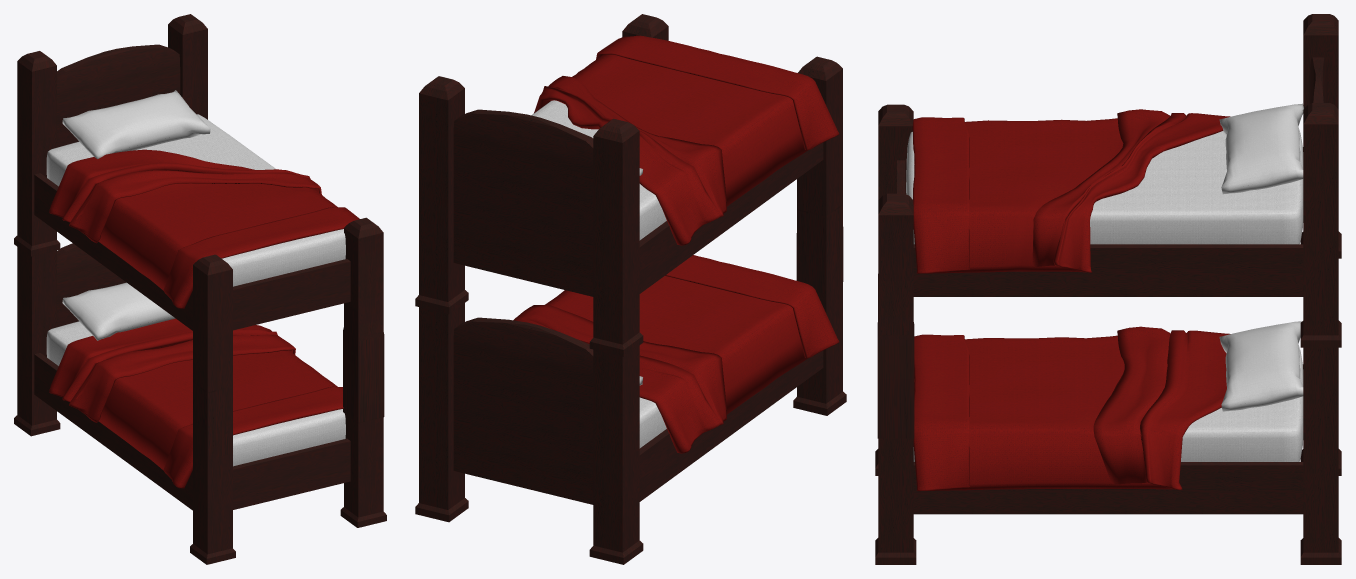
The model's file is Cama.fbx.
3 views of the same model, side by side, from view 1: azimuth 30°, elevation 25°; view 2: azimuth 150°, elevation 25°; view 3: azimuth 270°, elevation 25° (orthographic). The views are drawn at different scales.
Visible parts, largest first — view 1: Cama.001, Cobija.001, Cama, Cobija, Colchon.001, Almohada.001, Colchon, Almohada; view 2: Cama.001, Cama, Cobija.001, Cobija, Colchon.001, Colchon; view 3: Cobija, Cama.001, Cobija.001, Cama, Colchon.001, Colchon, Almohada.001, Almohada.
Part boxes in pixels (left/top/right/bottom): Cama.001: left=14, top=14, right=384, bottom=459; Cobija.001: left=49, top=149, right=359, bottom=308; Cama: left=14, top=243, right=386, bottom=564; Cobija: left=49, top=318, right=343, bottom=488; Colchon.001: left=46, top=114, right=345, bottom=286; Almohada.001: left=62, top=90, right=210, bottom=158; Colchon: left=46, top=321, right=345, bottom=466; Almohada: left=62, top=282, right=175, bottom=340; Cama.001: left=415, top=14, right=843, bottom=356; Cama: left=415, top=282, right=846, bottom=564; Cobija.001: left=534, top=35, right=839, bottom=245; Cobija: left=513, top=255, right=839, bottom=453; Colchon.001: left=531, top=100, right=666, bottom=240; Colchon: left=639, top=397, right=666, bottom=448; Cobija: left=913, top=326, right=1230, bottom=491; Cama.001: left=877, top=14, right=1341, bottom=438; Cobija.001: left=912, top=109, right=1230, bottom=273; Cama: left=875, top=347, right=1341, bottom=564; Colchon.001: left=906, top=128, right=1303, bottom=244; Colchon: left=913, top=345, right=1303, bottom=461; Almohada.001: left=1219, top=103, right=1303, bottom=194; Almohada: left=1219, top=321, right=1303, bottom=411.
Bounding box in the file's own units: 147 × 246 × 231.
